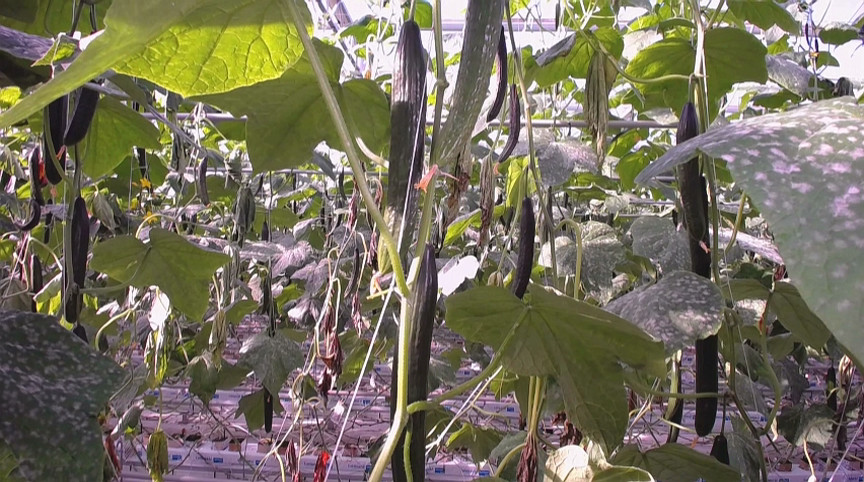cucumber: (435, 1, 507, 167), (380, 21, 427, 272), (393, 244, 439, 482), (679, 103, 706, 241), (693, 332, 724, 435), (65, 197, 89, 325), (64, 81, 100, 146), (513, 199, 536, 298), (44, 95, 67, 186)
